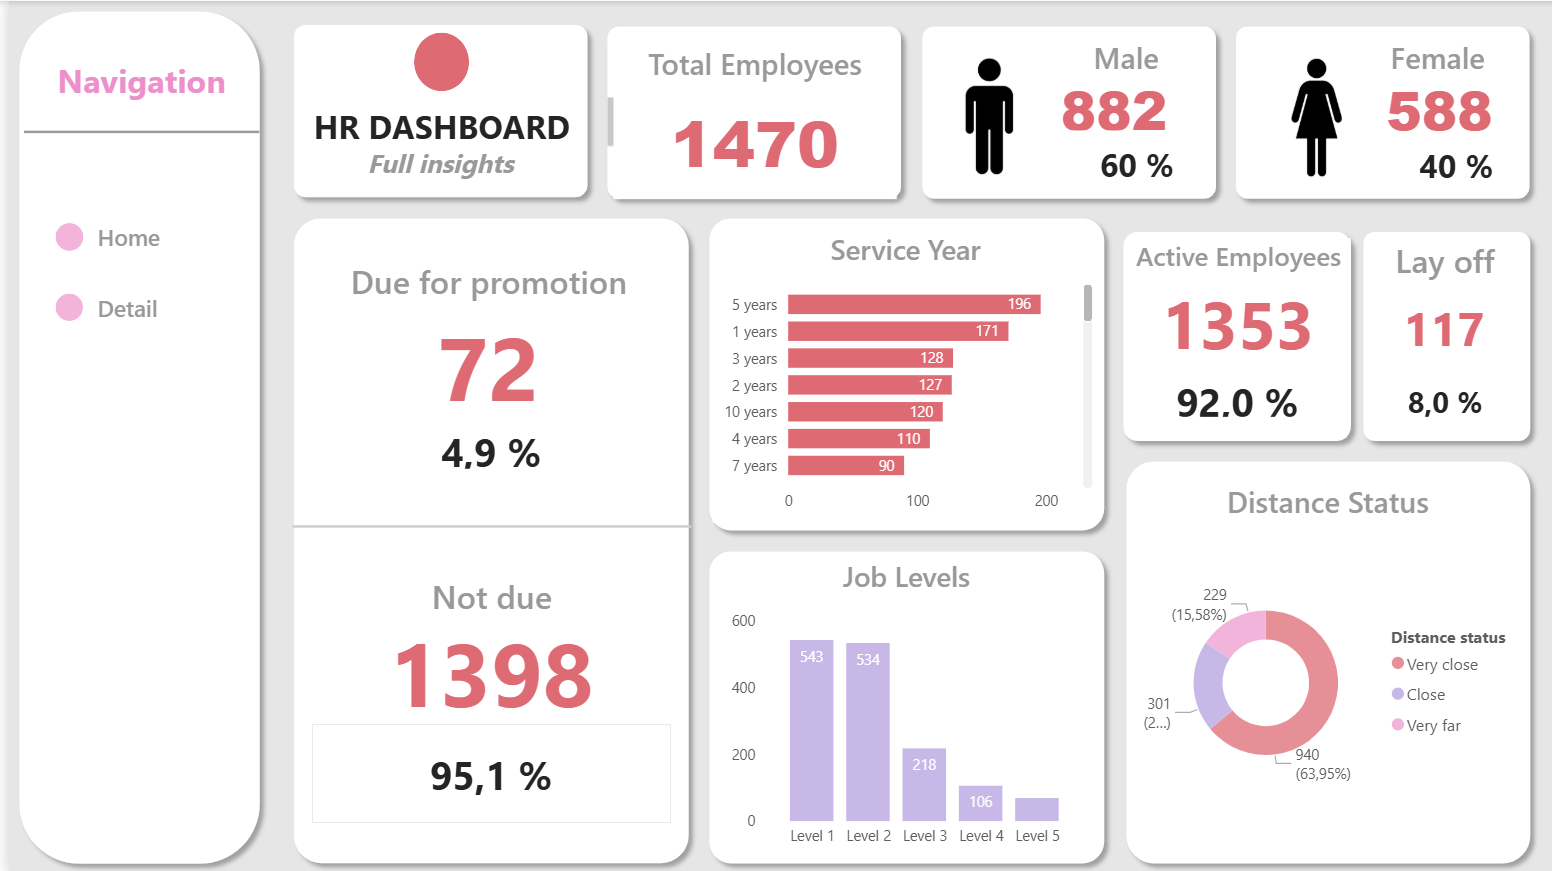

What the dashboard file says about the page in this screenshot:
{"tool":"powerbi","page":{"name":"Home","canvas":[1280,720],"ordinal":0},"visuals":[{"type":"shape","box":[0,0,215,719.2],"z":0},{"type":"shape","box":[225.6,10.6,258.9,159],"z":1000},{"type":"shape","box":[484.5,12.1,258.9,159],"z":2000},{"type":"shape","box":[743.5,12.1,258.9,159],"z":3000},{"type":"shape","box":[1002.4,12.1,258.9,159],"z":4000},{"type":"shape","box":[225.6,171.1,342.2,548.1],"z":5000},{"type":"shape","box":[567.8,171.1,342.2,274.1],"z":6000},{"type":"shape","box":[567.8,445.2,342.2,274.1],"z":7000},{"type":"shape","box":[910,181.7,204.4,189.3],"z":8000},{"type":"shape","box":[1106.9,181.7,154.4,189.3],"z":9000},{"type":"shape","box":[911.6,371,349.8,348.3],"z":10000},{"type":"textbox","box":[205.9,74.2,299.8,51.5],"z":11000},{"type":"textbox","box":[205.9,101.5,289.2,81.8],"z":12000},{"type":"shape","box":[333.1,25.7,45.4,48.5],"z":13000},{"type":"cardVisual","title":"Total Employees","fields":{"Data":["All Measures.Total Employees"]},"box":[498.2,34.8,233.2,128.7],"z":14000},{"type":"cardVisual","title":"Male","fields":{"Data":["All Measures.Male"]},"box":[832.8,51.5,156,77.2],"z":15000},{"type":"textbox","box":[888.8,24.2,74.2,42.4],"z":16000},{"type":"cardVisual","fields":{"Data":["All Measures.% male"]},"box":[811.6,101.5,177.2,62.1],"z":17000},{"type":"image","box":[760.1,24.2,95.4,140.8],"z":18000},{"type":"cardVisual","fields":{"Data":["All Measures.% female"]},"box":[1105.4,103,146.9,62.1],"z":19000},{"type":"cardVisual","title":"Male","fields":{"Data":["All Measures.Female"]},"box":[1100.8,51.5,156,77.2],"z":20000},{"type":"textbox","box":[1132.6,24.2,99.9,42.4],"z":21000},{"type":"image","box":[1022.1,0,110.5,192.3],"z":22000},{"type":"cardVisual","title":"Due for promotion","fields":{"Data":["All Measures.Due for promotion"]},"box":[265,212,262,136.3],"z":23000},{"type":"cardVisual","fields":{"Data":["All Measures.% Due for promotion"]},"box":[249.8,337.7,295.3,65.1],"z":24000},{"type":"cardVisual","title":"Not due","fields":{"Data":["All Measures.Not due"]},"box":[266.5,472.4,262,146.9],"z":25000},{"type":"cardVisual","fields":{"Data":["All Measures.% not due"]},"box":[249.8,595.1,295.3,81.8],"z":26000},{"type":"shape","box":[233.2,283.2,328.6,299.8],"z":27000},{"type":"clusteredBarChart","title":"Service Year","fields":{"Category":["HR Analytics Data.Service year"],"Y":["All Measures.Total Employees"]},"box":[579.9,189.3,318,240.8],"z":28000},{"type":"columnChart","title":"Job Levels","fields":{"Category":["HR Analytics Data.Job Levels"],"Y":["All Measures.Total Employees"]},"box":[589,458.8,299.8,246.8],"z":29000},{"type":"cardVisual","title":"Active Employees","fields":{"Data":["All Measures.On service"]},"box":[920.6,195.3,184.7,113.6],"z":30000},{"type":"cardVisual","fields":{"Data":["All Measures.% On service"]},"box":[922.2,296.8,180.2,63.6],"z":31000},{"type":"cardVisual","title":"Lay off","fields":{"Data":["All Measures.Lay Off"]},"box":[1119,195.3,127.2,113.6],"z":32000},{"type":"cardVisual","fields":{"Data":["All Measures.% Lay off"]},"box":[1122,296.8,122.7,63.6],"z":33000},{"type":"donutChart","title":"Distance Status","fields":{"Category":["HR Analytics Data.Distance status"],"Y":["All Measures.Total Employees"]},"box":[926.7,395.2,319.5,299.8],"z":34000},{"type":"textbox","box":[18.2,42.4,181.7,63.6],"z":35000},{"type":"shape","box":[12.1,56,193.8,104.5],"z":36000},{"type":"shape","box":[37.9,183.2,23,23],"z":37000},{"type":"textbox","box":[68.1,177.2,65.1,34.8],"z":38000},{"type":"shape","box":[37.9,240.8,22.7,22.7],"z":39000},{"type":"textbox","box":[68.1,234.7,65.1,34.8],"z":40000},{"type":"actionButton","box":[37.9,177.2,81.8,39.4],"z":41000},{"type":"actionButton","box":[37.9,234.7,81.8,39.4],"z":42000}]}

Visuals, with their boxes in screenshot pixels (x1, y1, x2, y2), scaled from the page's 1280x720 canvas onto the 1552x871 screenshot:
shape: region(0, 0, 261, 870)
shape: region(274, 13, 587, 205)
shape: region(587, 15, 901, 207)
shape: region(901, 15, 1215, 207)
shape: region(1215, 15, 1529, 207)
shape: region(274, 207, 688, 870)
shape: region(688, 207, 1103, 539)
shape: region(688, 539, 1103, 870)
shape: region(1103, 220, 1351, 449)
shape: region(1342, 220, 1529, 449)
shape: region(1105, 449, 1529, 870)
textbox: region(250, 90, 613, 152)
textbox: region(250, 123, 600, 222)
shape: region(404, 31, 459, 90)
"Total Employees" cardVisual: region(604, 42, 887, 198)
"Male" cardVisual: region(1010, 62, 1199, 156)
textbox: region(1078, 29, 1168, 81)
cardVisual - All Measures.% male: region(984, 123, 1199, 198)
image: region(922, 29, 1037, 200)
cardVisual - All Measures.% female: region(1340, 125, 1518, 200)
"Male" cardVisual: region(1335, 62, 1524, 156)
textbox: region(1373, 29, 1494, 81)
image: region(1239, 0, 1373, 233)
"Due for promotion" cardVisual: region(321, 256, 639, 421)
cardVisual - All Measures.% Due for promotion: region(303, 409, 661, 487)
"Not due" cardVisual: region(323, 571, 641, 749)
cardVisual - All Measures.% not due: region(303, 720, 661, 819)
shape: region(283, 343, 681, 705)
"Service Year" clusteredBarChart: region(703, 229, 1089, 520)
"Job Levels" columnChart: region(714, 555, 1078, 854)
"Active Employees" cardVisual: region(1116, 236, 1340, 374)
cardVisual - All Measures.% On service: region(1118, 359, 1337, 436)
"Lay off" cardVisual: region(1357, 236, 1511, 374)
cardVisual - All Measures.% Lay off: region(1360, 359, 1509, 436)
"Distance Status" donutChart: region(1124, 478, 1511, 841)
textbox: region(22, 51, 242, 128)
shape: region(15, 68, 250, 194)
shape: region(46, 222, 74, 249)
textbox: region(83, 214, 162, 256)
shape: region(46, 291, 73, 319)
textbox: region(83, 284, 162, 326)
actionButton: region(46, 214, 145, 262)
actionButton: region(46, 284, 145, 332)
